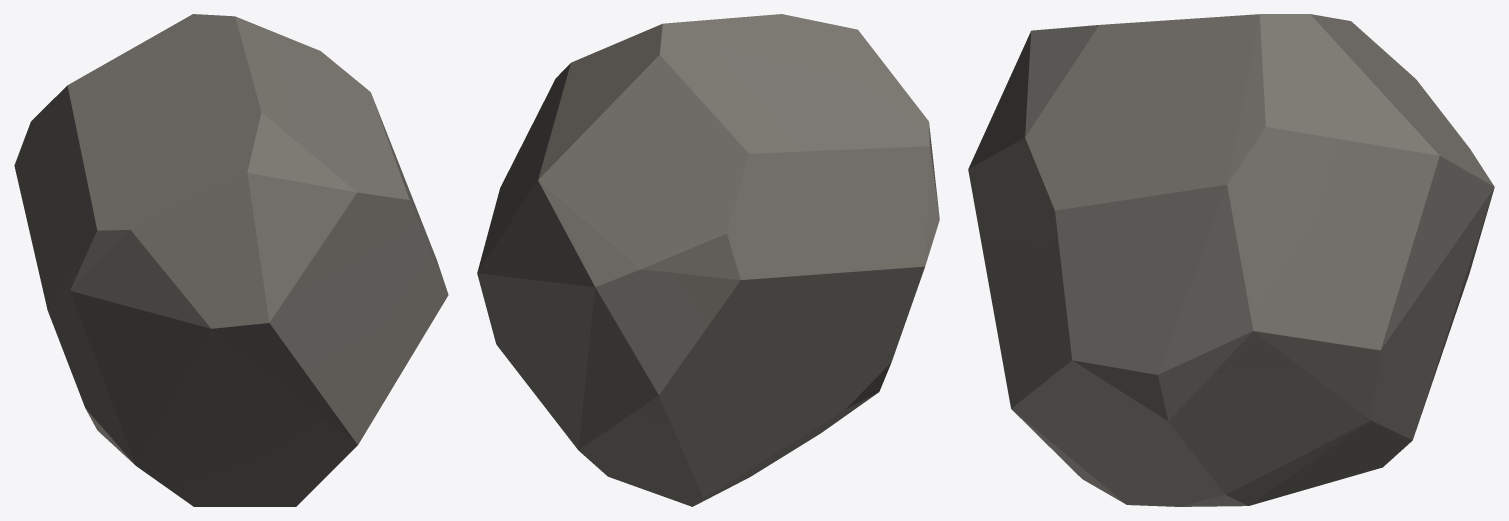
File: SM_Env_Rock_Round_01.glb
3 renders of one model, left to right at view 1: azimuth 30°, elevation 25°; view 2: azimuth 150°, elevation 25°; view 3: azimuth 270°, elevation 25°, orthographic. The views are drawn at different scales.
Visible parts, largest first — view 1: SM_Env_Rock_Round_01; view 2: SM_Env_Rock_Round_01; view 3: SM_Env_Rock_Round_01.
Part boxes in pixels (bbox=[...]): SM_Env_Rock_Round_01: bbox=[14, 14, 448, 506]; SM_Env_Rock_Round_01: bbox=[477, 14, 939, 506]; SM_Env_Rock_Round_01: bbox=[968, 14, 1494, 506].
Bounding box in the file's own units: 0.00804 × 0.0089 × 0.0085.
Materials: 1 (1 with a texture image).
